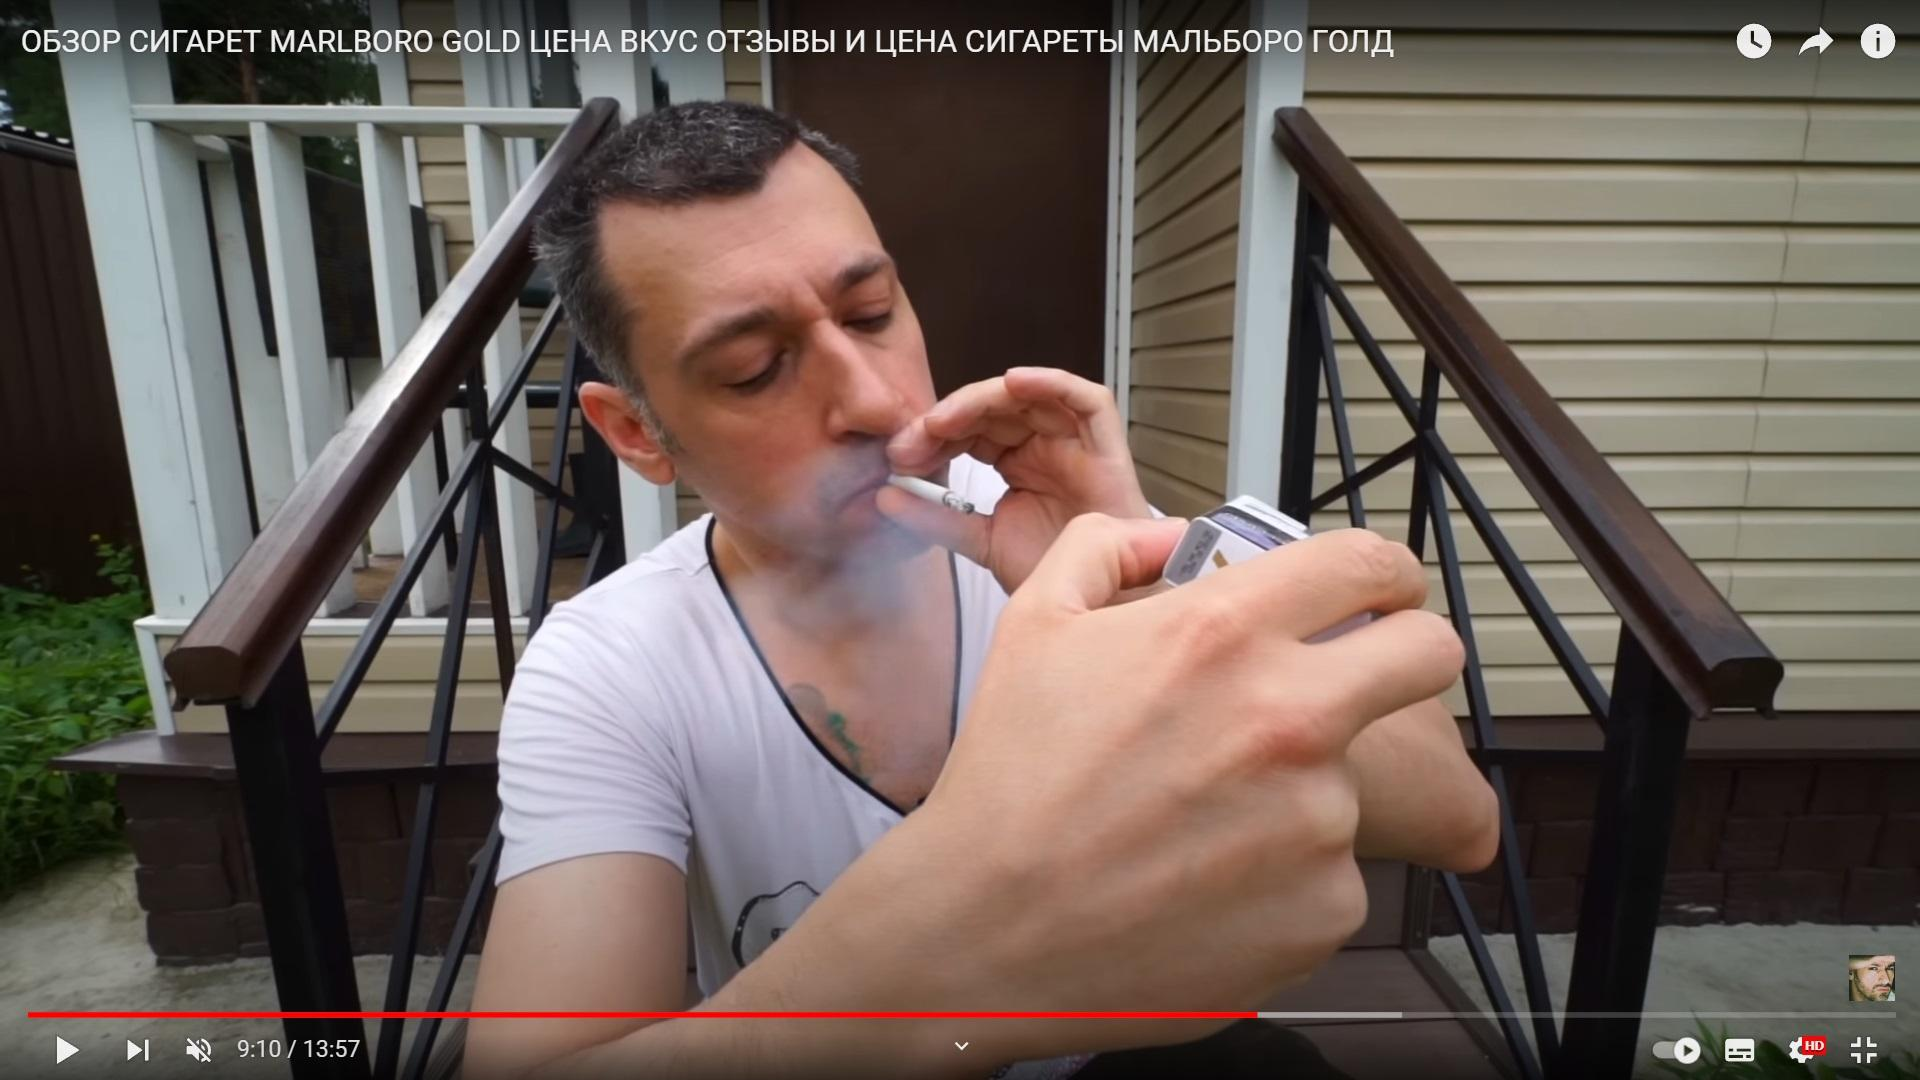cigarette: (885, 471, 976, 514)
